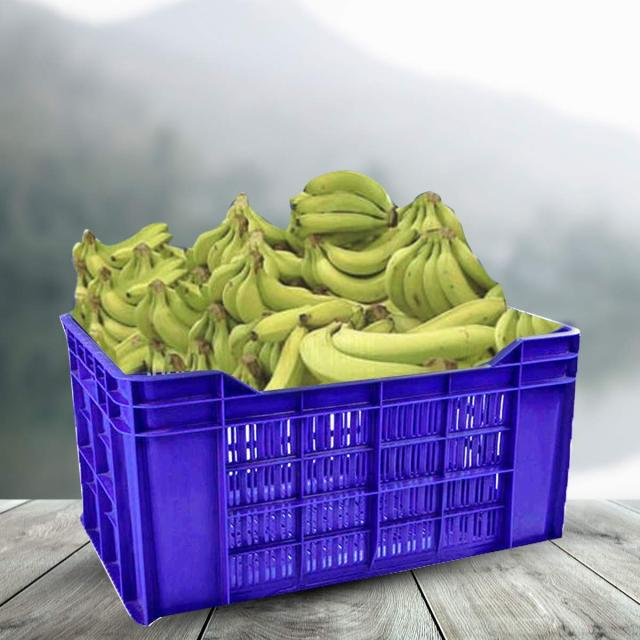basket: (53, 314, 581, 636)
